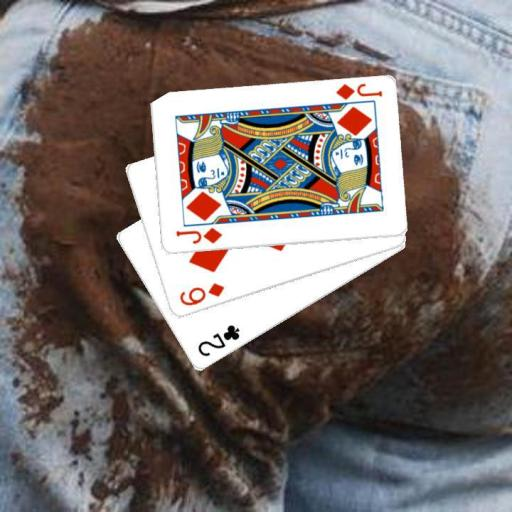2C: (194, 322, 241, 359)
6D: (176, 280, 226, 308)
JD: (332, 80, 383, 102), (173, 225, 223, 245)
